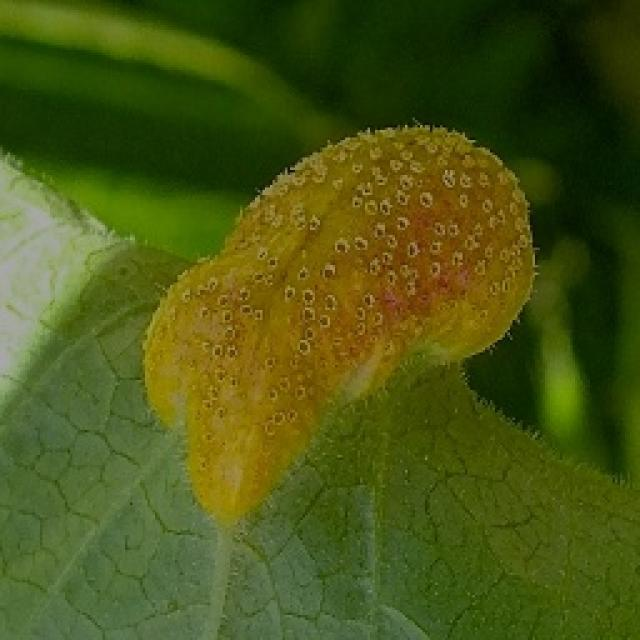Elderberry_rust: (118, 108, 586, 546)
